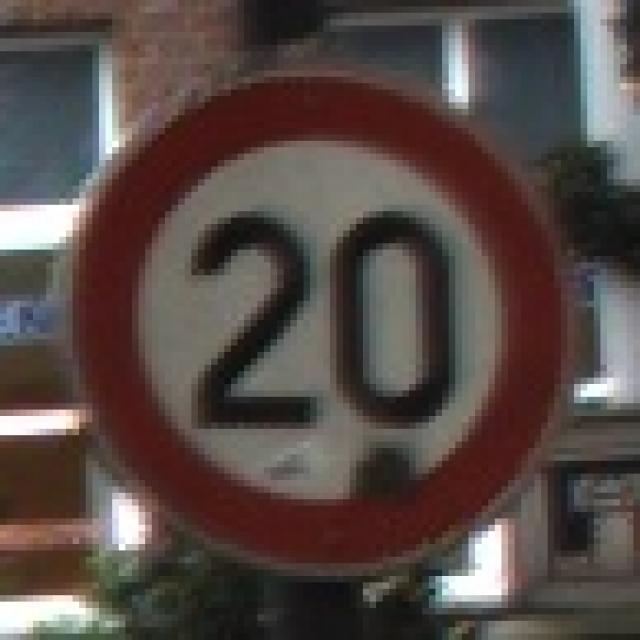Speed Limit -20-: (60, 51, 588, 589)
